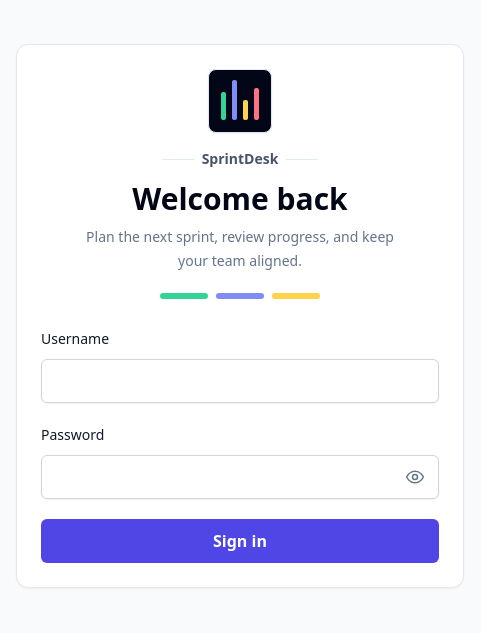
Test: LoginForm › shows validation errors and does not submit invalid credentials
Step 1. Click the button "Sign in" → [240, 541], box [41,519,439,563]
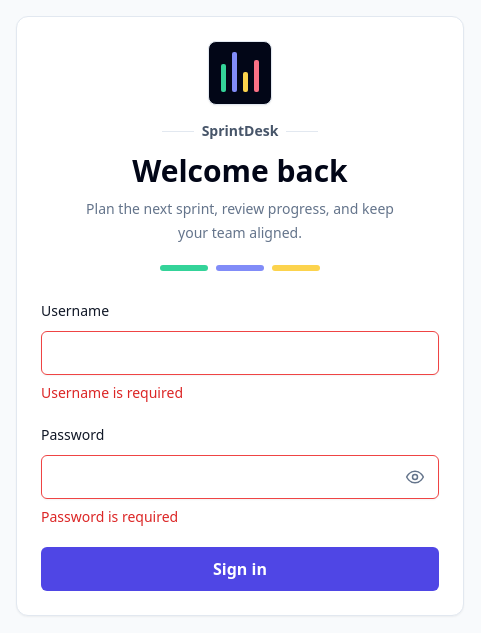
Expected: the text "Username is required" is shown, [41,383,183,402]
Expected: the text "Password is required" is shown, [41,507,178,526]
